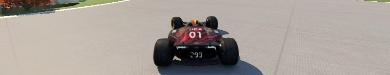Car: (152, 15, 239, 66)
